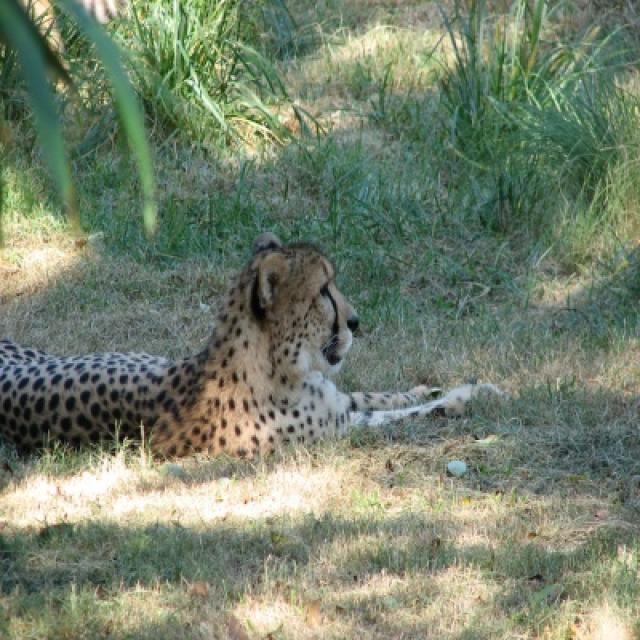Cheetah: (0, 234, 432, 491)
